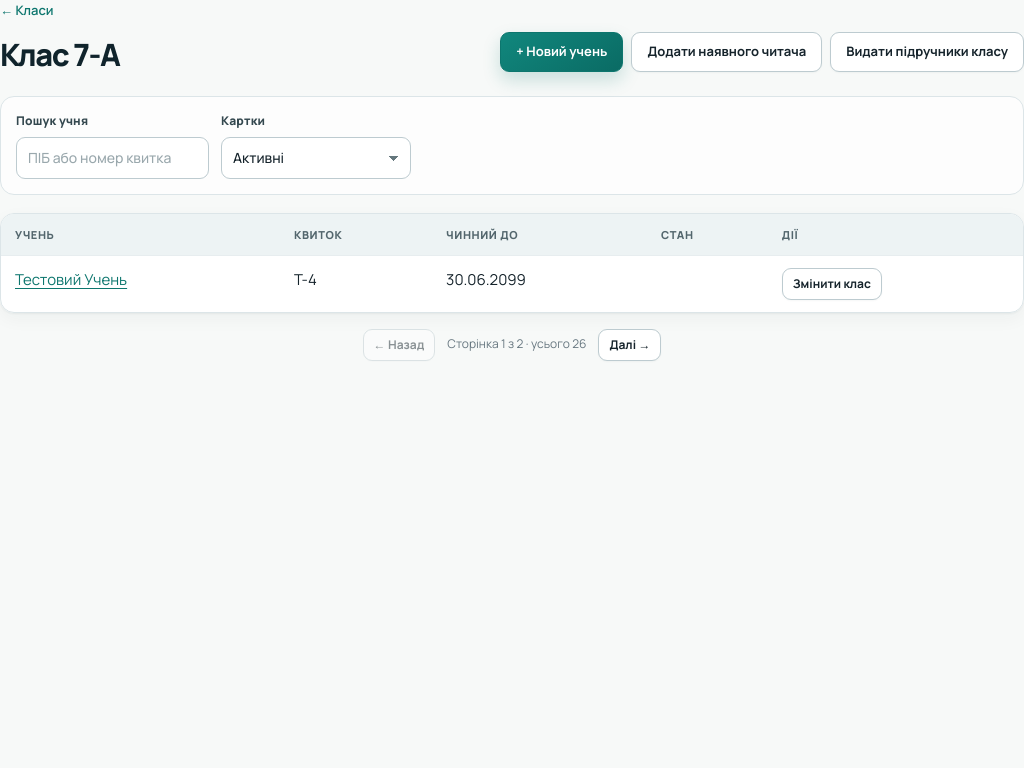
картка класу › прибирання з класу змінює наявну картку без видалення чи дублювання
Later steps or results of the test are not shown.
Check: the link "Тестовий Учень" is shown, box [15,269,127,290]
Click the button "Змінити клас" at (832, 284), box [782,268,882,300]
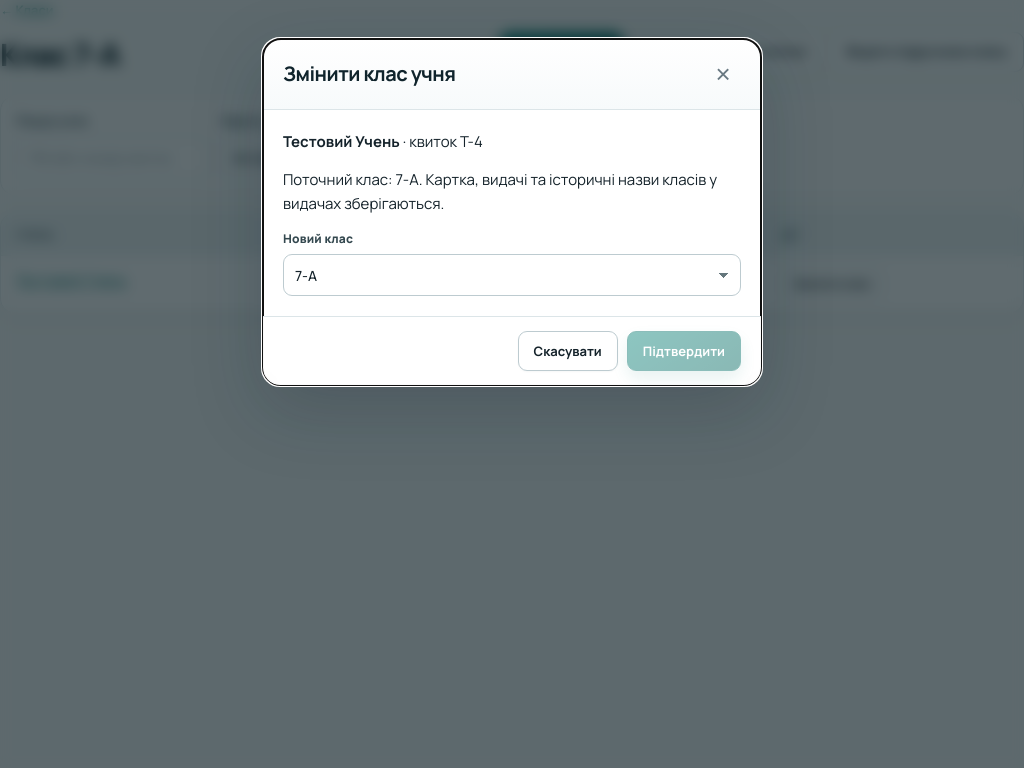
Select "Без класу" in the dropdown labelled "Новий клас" at (512, 275), box [283,254,741,296]
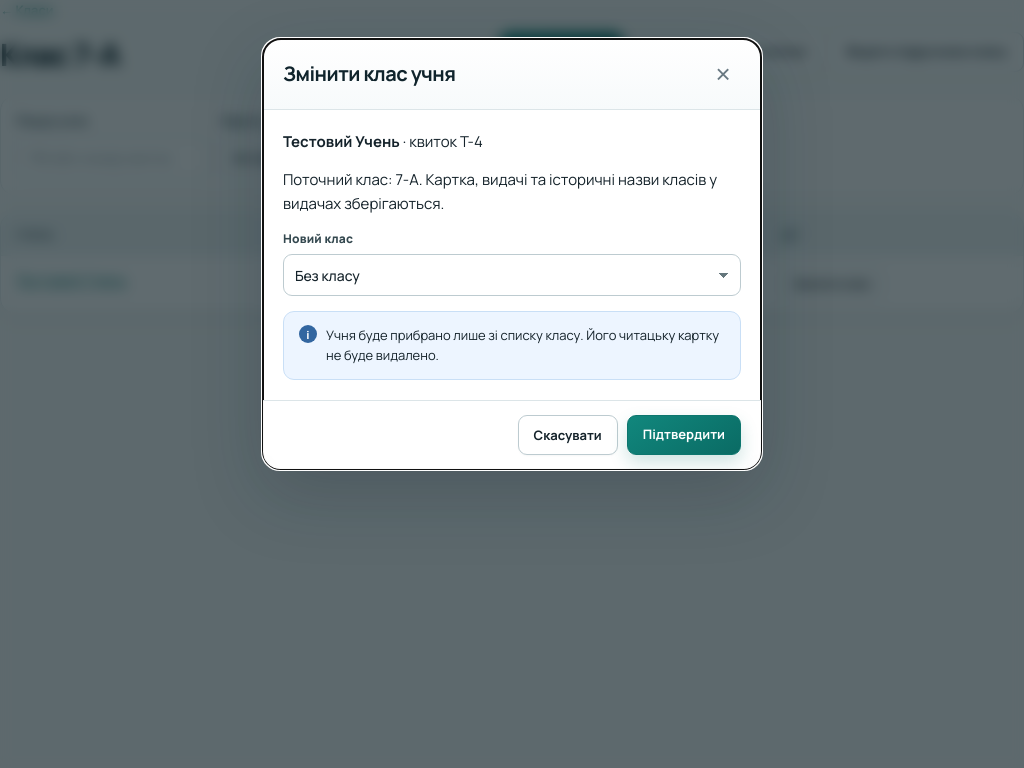
Check: the button "Підтвердити" is enabled, box [627,415,741,455]
